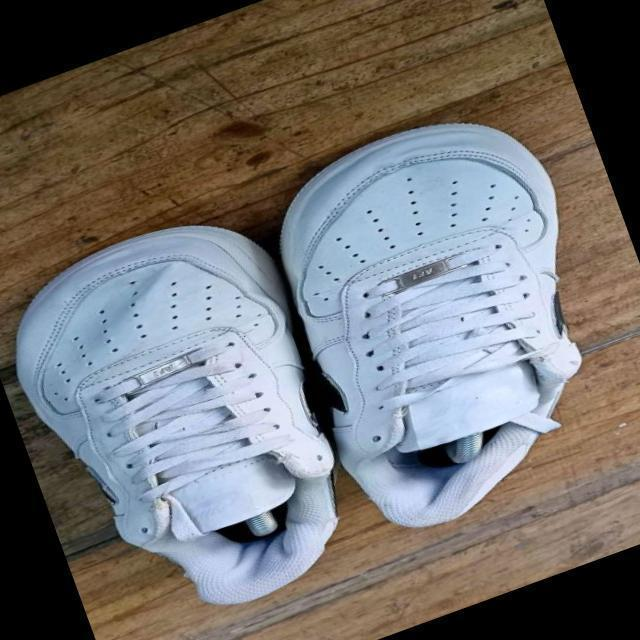nike fake air force: (236, 88, 640, 552), (0, 193, 385, 640)
